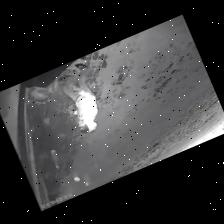person: (59, 63, 98, 132)
